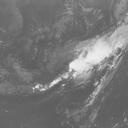cyclone: (54, 41, 95, 83)
